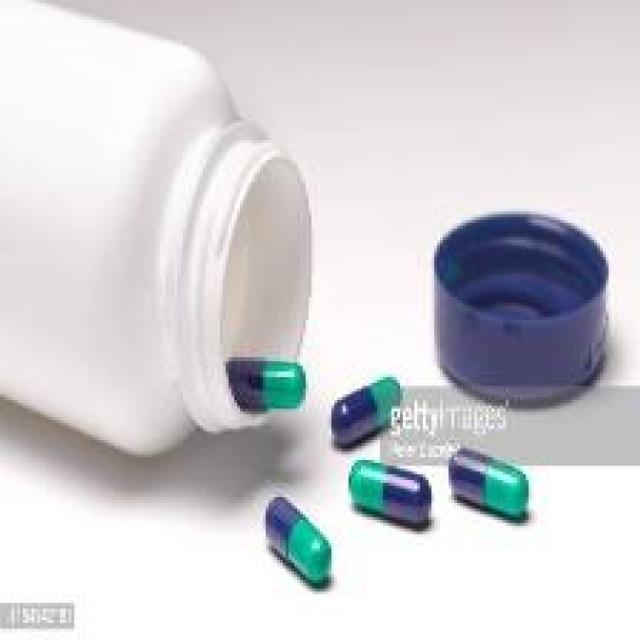Medicine: (173, 204, 549, 622)
